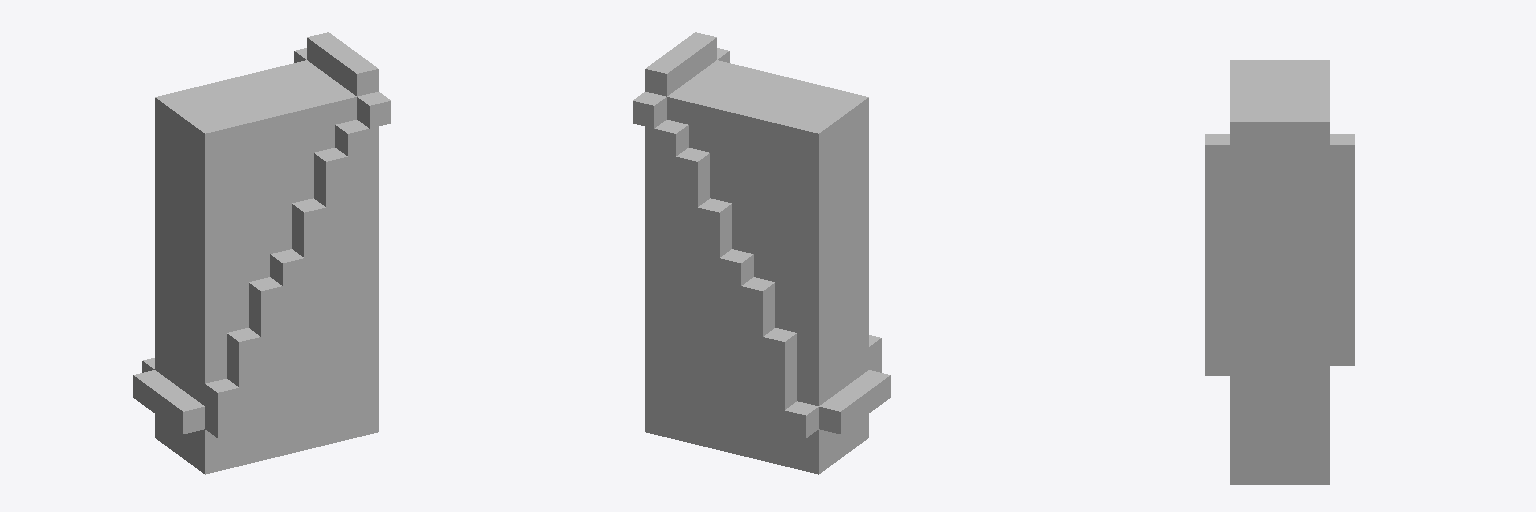
File: body.obj
The picture shows the model from 3 angles: view 1: azimuth 30°, elevation 25°; view 2: azimuth 150°, elevation 25°; view 3: azimuth 270°, elevation 25°; orthographic projection.
Parts seen in each view (by area): view 1: body; view 2: body; view 3: body.
Boxes of the visible parts, <box> form: body: <box>133,32,390,474</box>; body: <box>633,32,890,474</box>; body: <box>1205,60,1354,484</box>.
Size of the model in its own units: 0.9 by 1.6 by 0.6.